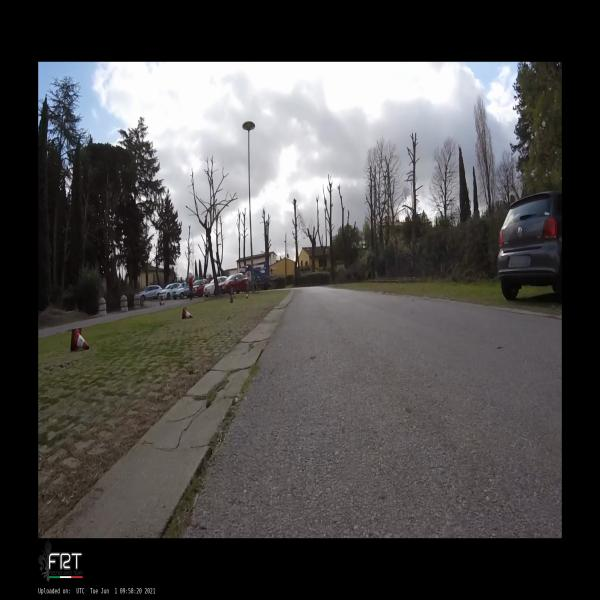orange_cone: (71, 328, 89, 351), (182, 308, 193, 320), (246, 292, 248, 299)
unknown_cone: (230, 294, 233, 303)
